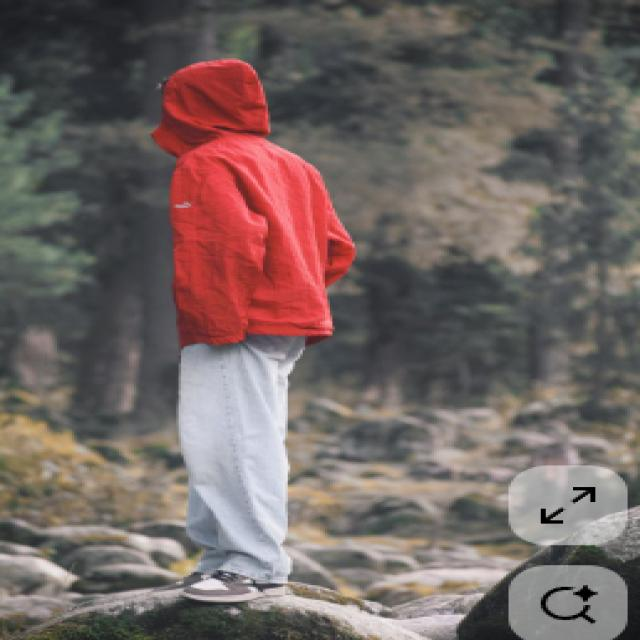4_capucha: (147, 54, 271, 160)
